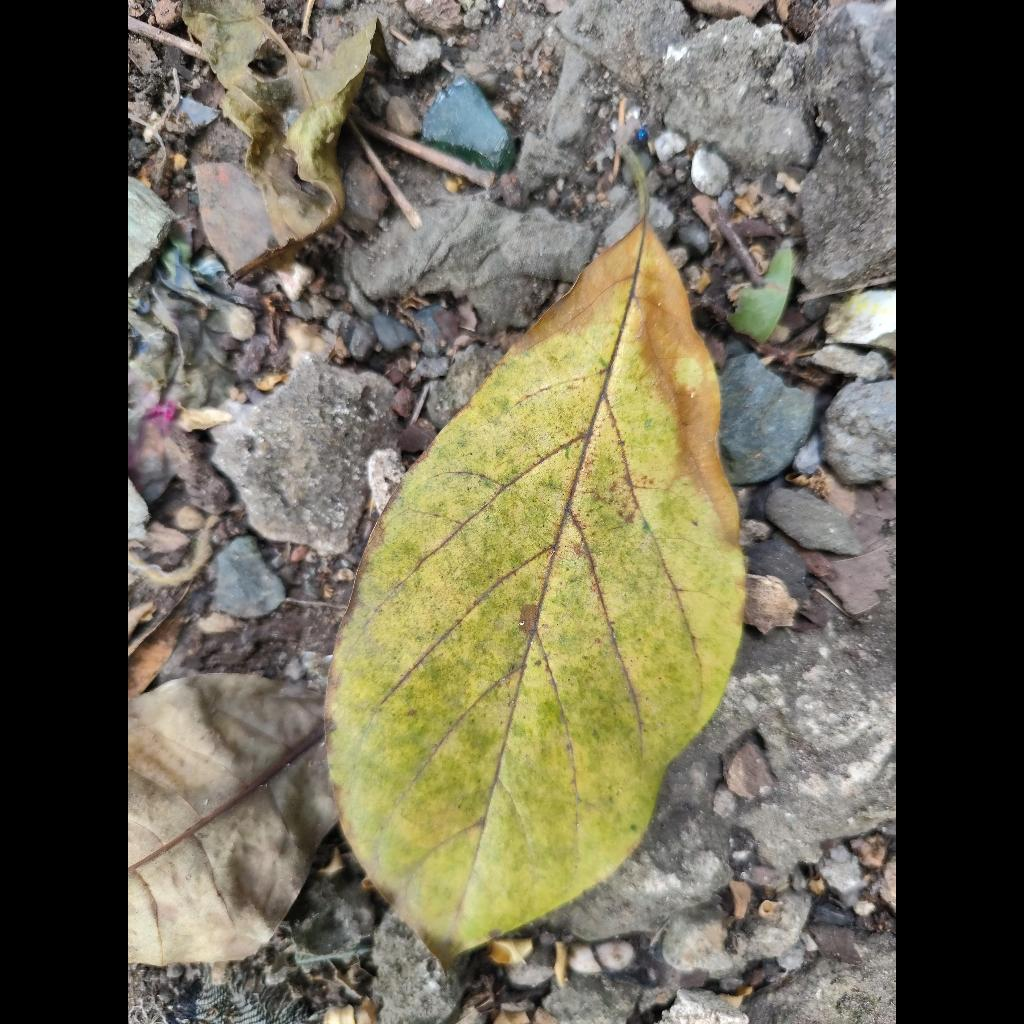nutrient_deficiency: (327, 220, 744, 964)
